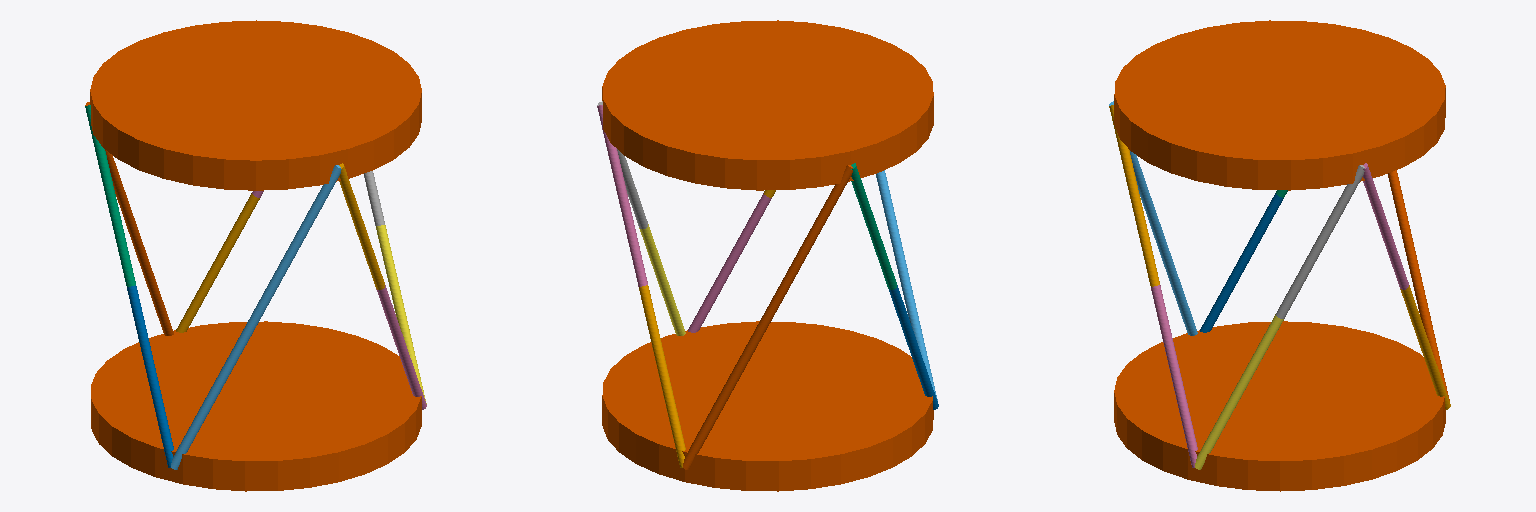
robot.urdf — Stewart:
<?xml version="1.0"?>
<!-- created with Phobos 0.7 -->
  <robot name="Stewart">

    <link name="ITF_12">
    </link>

    <link name="ITF_22">
    </link>

    <link name="ITF_23">
    </link>

    <link name="ITF_31">
    </link>

    <link name="ITF_33">
    </link>

    <link name="P_11">
      <inertial>
        <origin xyz="0 0 0.28" rpy="0 0 0"/>
        <mass value="0.5"/>
        <inertia ixx="0.03413" ixy="-0.03313" ixz="0" iyy="0.03413" iyz="0" izz="0.002"/>
      </inertial>
      <visual name="Visual_11">
        <origin xyz="0 0 0.28" rpy="0 0 0"/>
        <geometry>
          <cylinder radius="0.015" length="0.56"/>
        </geometry>
      </visual>
      <visual name="Visual_Top">
        <origin xyz="0.22334 -0.43301 0.44629" rpy="0.24482 0.39748 0.57314"/>
        <geometry>
          <cylinder radius="0.5" length="0.1"/>
        </geometry>
      </visual>
      <collision name="Visual_11">
        <origin xyz="0 0 0.28" rpy="0 0 0"/>
        <geometry>
          <box size="0.03 0.03 0.56"/>
        </geometry>
      </collision>
      <collision name="Visual_Top">
        <origin xyz="0.22334 -0.43301 0.44629" rpy="0.24482 0.39748 0.57314"/>
        <geometry>
          <cylinder radius="0.5" length="0.1"/>
        </geometry>
      </collision>
    </link>

    <link name="P_22">
      <inertial>
        <origin xyz="0 0 0.28" rpy="0 0 0"/>
        <mass value="0.5"/>
        <inertia ixx="0.00866" ixy="-0.05861" ixz="0" iyy="0.00866" iyz="0" izz="0.002"/>
      </inertial>
      <visual name="Visual_11.005">
        <origin xyz="0 0 0.28" rpy="0 0 0"/>
        <geometry>
          <cylinder radius="0.015" length="0.56"/>
        </geometry>
      </visual>
      <collision name="Visual_11.005">
        <origin xyz="0 0 0.28" rpy="0 0 0"/>
        <geometry>
          <box size="0.03 0.03 0.56"/>
        </geometry>
      </collision>
    </link>

    <link name="P_33">
      <inertial>
        <origin xyz="0 0 0.28" rpy="0 0 0"/>
        <mass value="0.5"/>
        <inertia ixx="0.03413" ixy="-0.03313" ixz="0" iyy="0.03413" iyz="0" izz="0.002"/>
      </inertial>
      <visual name="Visual_11.003">
        <origin xyz="0 0 0.28" rpy="0 0 0"/>
        <geometry>
          <cylinder radius="0.015" length="0.56"/>
        </geometry>
      </visual>
      <collision name="Visual_11.003">
        <origin xyz="0 0 0.28" rpy="0 0 0"/>
        <geometry>
          <box size="0.03 0.03 0.56"/>
        </geometry>
      </collision>
    </link>

    <link name="P_44">
      <inertial>
        <origin xyz="0 0 0.28" rpy="0 0 0"/>
        <mass value="0.5"/>
        <inertia ixx="0.03413" ixy="-0.03313" ixz="0" iyy="0.03413" iyz="0" izz="0.002"/>
      </inertial>
      <visual name="Visual_11.002">
        <origin xyz="0 0 0.28" rpy="0 0 0"/>
        <geometry>
          <cylinder radius="0.015" length="0.56"/>
        </geometry>
      </visual>
      <collision name="Visual_11.002">
        <origin xyz="0 0 0.28" rpy="0 0 0"/>
        <geometry>
          <box size="0.03 0.03 0.56"/>
        </geometry>
      </collision>
    </link>

    <link name="P_55">
      <inertial>
        <origin xyz="0 0 0.28" rpy="0 0 0"/>
        <mass value="0.5"/>
        <inertia ixx="0.00866" ixy="-0.05861" ixz="0" iyy="0.00866" iyz="0" izz="0.002"/>
      </inertial>
      <visual name="Visual_11.001">
        <origin xyz="0 0 0.28" rpy="0 0 0"/>
        <geometry>
          <cylinder radius="0.015" length="0.56"/>
        </geometry>
      </visual>
      <collision name="Visual_11.001">
        <origin xyz="0 0 0.28" rpy="0 0 0"/>
        <geometry>
          <box size="0.03 0.03 0.56"/>
        </geometry>
      </collision>
    </link>

    <link name="P_66">
      <inertial>
        <origin xyz="0 0 0.28" rpy="0 0 0"/>
        <mass value="0.5"/>
        <inertia ixx="0.03413" ixy="-0.03313" ixz="0" iyy="0.03413" iyz="0" izz="0.002"/>
      </inertial>
      <visual name="Visual_11.004">
        <origin xyz="0 0 0.28" rpy="0 0 0"/>
        <geometry>
          <cylinder radius="0.015" length="0.56"/>
        </geometry>
      </visual>
      <collision name="Visual_11.004">
        <origin xyz="0 0 0.28" rpy="0 0 0"/>
        <geometry>
          <box size="0.03 0.03 0.56"/>
        </geometry>
      </collision>
    </link>

    <link name="R_11">
    </link>

    <link name="R_12">
    </link>

    <link name="R_13">
      <inertial>
        <origin xyz="-0.28 0 0" rpy="0 0 0"/>
        <mass value="0.5"/>
        <inertia ixx="0.01742" ixy="0" ixz="0" iyy="0.01409" iyz="0" izz="0.002"/>
      </inertial>
      <visual name="Visual_10">
        <origin xyz="-0.28 0 0" rpy="0 -1.5708 0"/>
        <geometry>
          <cylinder radius="0.015" length="0.56"/>
        </geometry>
      </visual>
      <collision name="Visual_10">
        <origin xyz="-0.28 0 0" rpy="0 -1.5708 0"/>
        <geometry>
          <box size="0.03 0.03 0.56"/>
        </geometry>
      </collision>
    </link>

    <link name="R_21">
    </link>

    <link name="R_22">
    </link>

    <link name="R_23">
      <inertial>
        <origin xyz="-0.28 0 0" rpy="0 0 0"/>
        <mass value="0.5"/>
        <inertia ixx="0.01742" ixy="0" ixz="0" iyy="0.01409" iyz="0" izz="0.002"/>
      </inertial>
      <visual name="Visual_10.005">
        <origin xyz="-0.28 0 0" rpy="0 -1.5708 0"/>
        <geometry>
          <cylinder radius="0.015" length="0.56"/>
        </geometry>
      </visual>
      <collision name="Visual_10.005">
        <origin xyz="-0.28 0 0" rpy="0 -1.5708 0"/>
        <geometry>
          <box size="0.03 0.03 0.56"/>
        </geometry>
      </collision>
    </link>

    <link name="R_31">
    </link>

    <link name="R_32">
    </link>

    <link name="R_33">
      <inertial>
        <origin xyz="-0.28 0 0" rpy="0 0 0"/>
        <mass value="0.5"/>
        <inertia ixx="0.01742" ixy="0" ixz="0" iyy="0.01409" iyz="0" izz="0.002"/>
      </inertial>
      <visual name="Visual_10.003">
        <origin xyz="-0.28 0 0" rpy="0 -1.5708 0"/>
        <geometry>
          <cylinder radius="0.015" length="0.56"/>
        </geometry>
      </visual>
      <collision name="Visual_10.003">
        <origin xyz="-0.28 0 0" rpy="0 -1.5708 0"/>
        <geometry>
          <box size="0.03 0.03 0.56"/>
        </geometry>
      </collision>
    </link>

    <link name="R_41">
    </link>

    <link name="R_42">
    </link>

    <link name="R_43">
      <inertial>
        <origin xyz="-0.28 0 0" rpy="0 0 0"/>
        <mass value="0.5"/>
        <inertia ixx="0.01742" ixy="0" ixz="0" iyy="0.01409" iyz="0" izz="0.002"/>
      </inertial>
      <visual name="Visual_10.002">
        <origin xyz="-0.28 0 0" rpy="0 -1.5708 0"/>
        <geometry>
          <cylinder radius="0.015" length="0.56"/>
        </geometry>
      </visual>
      <collision name="Visual_10.002">
        <origin xyz="-0.28 0 0" rpy="0 -1.5708 0"/>
        <geometry>
          <box size="0.03 0.03 0.56"/>
        </geometry>
      </collision>
    </link>

    <link name="R_51">
    </link>

    <link name="R_52">
    </link>

    <link name="R_53">
      <inertial>
        <origin xyz="-0.28 0 0" rpy="0 0 0"/>
        <mass value="0.5"/>
        <inertia ixx="0.01742" ixy="0" ixz="0" iyy="0.01409" iyz="0" izz="0.002"/>
      </inertial>
      <visual name="Visual_10.001">
        <origin xyz="-0.28 0 0" rpy="0 -1.5708 0"/>
        <geometry>
          <cylinder radius="0.015" length="0.56"/>
        </geometry>
      </visual>
      <collision name="Visual_10.001">
        <origin xyz="-0.28 0 0" rpy="0 -1.5708 0"/>
        <geometry>
          <box size="0.03 0.03 0.56"/>
        </geometry>
      </collision>
    </link>

    <link name="R_61">
    </link>

    <link name="R_62">
    </link>

    <link name="R_63">
      <inertial>
        <origin xyz="-0.28 0 0" rpy="0 0 0"/>
        <mass value="0.5"/>
        <inertia ixx="0.01742" ixy="0" ixz="0" iyy="0.01409" iyz="0" izz="0.002"/>
      </inertial>
      <visual name="Visual_10.004">
        <origin xyz="-0.28 0 0" rpy="0 -1.5708 0"/>
        <geometry>
          <cylinder radius="0.015" length="0.56"/>
        </geometry>
      </visual>
      <collision name="Visual_10.004">
        <origin xyz="-0.28 0 0" rpy="0 -1.5708 0"/>
        <geometry>
          <box size="0.03 0.03 0.56"/>
        </geometry>
      </collision>
    </link>

    <link name="root">
      <inertial>
        <origin xyz="0 0 0" rpy="0 0 0"/>
        <mass value="2.0"/>
        <inertia ixx="0.12667" ixy="0" ixz="0" iyy="0.12667" iyz="0" izz="0.25"/>
      </inertial>
      <visual name="Visual_Base.001">
        <origin xyz="0 0 0" rpy="0 0 0"/>
        <geometry>
          <cylinder radius="0.5" length="0.1"/>
        </geometry>
      </visual>
      <collision name="Visual_Base.001">
        <origin xyz="0 0 0" rpy="0 0 0"/>
        <geometry>
          <cylinder radius="0.5" length="0.1"/>
        </geometry>
      </collision>
    </link>

    <link name="top_11">
    </link>

    <link name="top_12">
    </link>

    <link name="top_13">
    </link>

    <joint name="ITF_12" type="floating">
      <origin xyz="-0.0003 0 0.55803" rpy="-0.24482 -0.39748 -2.56845"/>
      <parent link="P_22"/>
      <child link="ITF_12"/>
    </joint>

    <joint name="ITF_22" type="floating">
      <origin xyz="-0.00029 0.00088 0.55803" rpy="0.46338 0.00078 1.56924"/>
      <parent link="P_33"/>
      <child link="ITF_22"/>
    </joint>

    <joint name="ITF_23" type="floating">
      <origin xyz="-0.00029 0 0.55803" rpy="-0.24482 0.39748 -0.57314"/>
      <parent link="P_44"/>
      <child link="ITF_23"/>
    </joint>

    <joint name="ITF_31" type="floating">
      <origin xyz="-0.00029 0.00087 0.55803" rpy="0.46338 0.00078 1.56924"/>
      <parent link="P_66"/>
      <child link="ITF_31"/>
    </joint>

    <joint name="ITF_33" type="floating">
      <origin xyz="-0.00029 0 0.55803" rpy="-0.24482 -0.39748 -2.56845"/>
      <parent link="P_55"/>
      <child link="ITF_33"/>
    </joint>

    <joint name="P_11" type="prismatic">
      <origin xyz="-0.56 0 0" rpy="0 -1.5708 0"/>
      <parent link="R_13"/>
      <child link="P_11"/>
      <axis xyz="0 0 1.0"/>
      <limit lower="-0.2" upper="0.2" effort="100.0" velocity="1.0"/>
    </joint>

    <joint name="P_22" type="prismatic">
      <origin xyz="-0.56 0 0" rpy="0 -1.5708 0"/>
      <parent link="R_23"/>
      <child link="P_22"/>
      <axis xyz="0 0 1.0"/>
      <limit lower="-0.2" upper="0.2" effort="100.0" velocity="1.0"/>
    </joint>

    <joint name="P_33" type="prismatic">
      <origin xyz="-0.56 0 0" rpy="0 -1.5708 0"/>
      <parent link="R_33"/>
      <child link="P_33"/>
      <axis xyz="0 0 1.0"/>
      <limit lower="-0.2" upper="0.2" effort="100.0" velocity="1.0"/>
    </joint>

    <joint name="P_44" type="prismatic">
      <origin xyz="-0.56 0 0" rpy="0 -1.5708 0"/>
      <parent link="R_43"/>
      <child link="P_44"/>
      <axis xyz="0 0 1.0"/>
      <limit lower="-0.2" upper="0.2" effort="100.0" velocity="1.0"/>
    </joint>

    <joint name="P_55" type="prismatic">
      <origin xyz="-0.56 0 0" rpy="0 -1.5708 0"/>
      <parent link="R_53"/>
      <child link="P_55"/>
      <axis xyz="0 0 1.0"/>
      <limit lower="-0.2" upper="0.2" effort="100.0" velocity="1.0"/>
    </joint>

    <joint name="P_66" type="prismatic">
      <origin xyz="-0.56 0 0" rpy="0 -1.5708 0"/>
      <parent link="R_63"/>
      <child link="P_66"/>
      <axis xyz="0 0 1.0"/>
      <limit lower="-0.2" upper="0.2" effort="100.0" velocity="1.0"/>
    </joint>

    <joint name="R_11" type="revolute">
      <origin xyz="0 0.5 0" rpy="0 -0.46338 0.5236"/>
      <parent link="root"/>
      <child link="R_11"/>
      <axis xyz="0 0 1.0"/>
      <limit lower="-0.2" upper="0.2" effort="0" velocity="1000.0"/>
    </joint>

    <joint name="R_12" type="revolute">
      <origin xyz="0 0 0" rpy="-1.5708 0 0"/>
      <parent link="R_11"/>
      <child link="R_12"/>
      <axis xyz="0 0 1.0"/>
      <limit lower="-0.2" upper="0.2" effort="0" velocity="1000.0"/>
    </joint>

    <joint name="R_13" type="revolute">
      <origin xyz="0 0 0" rpy="1.5708 0 1.5708"/>
      <parent link="R_12"/>
      <child link="R_13"/>
      <axis xyz="0 0 1.0"/>
      <limit lower="-0.2" upper="0.2" effort="0" velocity="1000.0"/>
    </joint>

    <joint name="R_21" type="revolute">
      <origin xyz="0 0.5 0" rpy="0 -0.46338 2.61799"/>
      <parent link="root"/>
      <child link="R_21"/>
      <axis xyz="0 0 1.0"/>
      <limit lower="-0.2" upper="0.2" effort="0" velocity="1000.0"/>
    </joint>

    <joint name="R_22" type="revolute">
      <origin xyz="0 0 0" rpy="-1.5708 0 0"/>
      <parent link="R_21"/>
      <child link="R_22"/>
      <axis xyz="0 0 1.0"/>
      <limit lower="-0.2" upper="0.2" effort="0" velocity="1000.0"/>
    </joint>

    <joint name="R_23" type="revolute">
      <origin xyz="0 0 0" rpy="1.5708 0 1.5708"/>
      <parent link="R_22"/>
      <child link="R_23"/>
      <axis xyz="0 0 1.0"/>
      <limit lower="-0.2" upper="0.2" effort="0" velocity="1000.0"/>
    </joint>

    <joint name="R_31" type="revolute">
      <origin xyz="0.43301 -0.25 0" rpy="0 -0.46338 -1.56905"/>
      <parent link="root"/>
      <child link="R_31"/>
      <axis xyz="0 0 1.0"/>
      <limit lower="-0.2" upper="0.2" effort="0" velocity="1000.0"/>
    </joint>

    <joint name="R_32" type="revolute">
      <origin xyz="0 0 0" rpy="-1.5708 0 0"/>
      <parent link="R_31"/>
      <child link="R_32"/>
      <axis xyz="0 0 1.0"/>
      <limit lower="-0.2" upper="0.2" effort="0" velocity="1000.0"/>
    </joint>

    <joint name="R_33" type="revolute">
      <origin xyz="0 0 0" rpy="1.5708 0 1.5708"/>
      <parent link="R_32"/>
      <child link="R_33"/>
      <axis xyz="0 0 1.0"/>
      <limit lower="-0.2" upper="0.2" effort="0" velocity="1000.0"/>
    </joint>

    <joint name="R_41" type="revolute">
      <origin xyz="0.43301 -0.25 0" rpy="0 -0.46338 0.5236"/>
      <parent link="root"/>
      <child link="R_41"/>
      <axis xyz="0 0 1.0"/>
      <limit lower="-0.2" upper="0.2" effort="0" velocity="1000.0"/>
    </joint>

    <joint name="R_42" type="revolute">
      <origin xyz="0 0 0" rpy="-1.5708 0 0"/>
      <parent link="R_41"/>
      <child link="R_42"/>
      <axis xyz="0 0 1.0"/>
      <limit lower="-0.2" upper="0.2" effort="0" velocity="1000.0"/>
    </joint>

    <joint name="R_43" type="revolute">
      <origin xyz="0 0 0" rpy="1.5708 0 1.5708"/>
      <parent link="R_42"/>
      <child link="R_43"/>
      <axis xyz="0 0 1.0"/>
      <limit lower="-0.2" upper="0.2" effort="0" velocity="1000.0"/>
    </joint>

    <joint name="R_51" type="revolute">
      <origin xyz="-0.43301 -0.25 0" rpy="0 -0.46338 2.61799"/>
      <parent link="root"/>
      <child link="R_51"/>
      <axis xyz="0 0 1.0"/>
      <limit lower="-0.2" upper="0.2" effort="0" velocity="1000.0"/>
    </joint>

    <joint name="R_52" type="revolute">
      <origin xyz="0 0 0" rpy="-1.5708 0 0"/>
      <parent link="R_51"/>
      <child link="R_52"/>
      <axis xyz="0 0 1.0"/>
      <limit lower="-0.2" upper="0.2" effort="0" velocity="1000.0"/>
    </joint>

    <joint name="R_53" type="revolute">
      <origin xyz="0 0 0" rpy="1.5708 0 1.5708"/>
      <parent link="R_52"/>
      <child link="R_53"/>
      <axis xyz="0 0 1.0"/>
      <limit lower="-0.2" upper="0.2" effort="0" velocity="1000.0"/>
    </joint>

    <joint name="R_61" type="revolute">
      <origin xyz="-0.43301 -0.25 0" rpy="0 -0.46338 -1.56905"/>
      <parent link="root"/>
      <child link="R_61"/>
      <axis xyz="0 0 1.0"/>
      <limit lower="-0.2" upper="0.2" effort="0" velocity="1000.0"/>
    </joint>

    <joint name="R_62" type="revolute">
      <origin xyz="0 0 0" rpy="-1.5708 0 0"/>
      <parent link="R_61"/>
      <child link="R_62"/>
      <axis xyz="0 0 1.0"/>
      <limit lower="-0.2" upper="0.2" effort="0" velocity="1000.0"/>
    </joint>

    <joint name="R_63" type="revolute">
      <origin xyz="0 0 0" rpy="1.5708 0 1.5708"/>
      <parent link="R_62"/>
      <child link="R_63"/>
      <axis xyz="0 0 1.0"/>
      <limit lower="-0.2" upper="0.2" effort="0" velocity="1000.0"/>
    </joint>

    <joint name="top_11" type="floating">
      <origin xyz="-0.00029 0 0.55803" rpy="0.24482 0.39748 0.57314"/>
      <parent link="P_11"/>
      <child link="top_11"/>
    </joint>

    <joint name="top_12" type="floating">
      <origin xyz="0.43301 -0.75 0" rpy="0 0 0"/>
      <parent link="top_11"/>
      <child link="top_12"/>
    </joint>

    <joint name="top_13" type="floating">
      <origin xyz="-0.43301 -0.75 0" rpy="0 0 0"/>
      <parent link="top_11"/>
      <child link="top_13"/>
    </joint>

  </robot>

--- Render facts (derived) ---
3 views of the same robot in one strip: view 1: azimuth 30°, elevation 25°; view 2: azimuth 150°, elevation 25°; view 3: azimuth 270°, elevation 25° (orthographic).
Robot: Stewart — 33 links, 32 joints (18 revolute, 6 prismatic, 8 floating); root link root; default pose: every joint at zero.
Visible links, largest first — view 1: P_11, root, R_63, R_53, P_55, P_66, R_23, R_33, P_44, R_43, R_13, P_33; view 2: P_11, root, R_23, R_13, P_22, R_43, R_53, P_66, R_63, R_33, P_33, P_55; view 3: P_11, root, R_43, R_33, P_33, R_63, P_44, R_13, P_22, R_23, R_53, P_55.
Link boxes in pixels (x1=…): P_11: x1=85, y1=20, x2=421, y2=228; root: x1=91, y1=321, x2=421, y2=491; R_63: x1=127, y1=285, x2=173, y2=467; R_53: x1=171, y1=315, x2=259, y2=469; P_55: x1=252, y1=165, x2=341, y2=318; P_66: x1=85, y1=105, x2=135, y2=286; R_23: x1=176, y1=193, x2=259, y2=332; R_33: x1=376, y1=225, x2=426, y2=403; P_44: x1=339, y1=163, x2=384, y2=289; R_43: x1=376, y1=285, x2=426, y2=409; R_13: x1=127, y1=224, x2=173, y2=335; P_33: x1=364, y1=171, x2=384, y2=225; P_11: x1=602, y1=20, x2=933, y2=318; root: x1=602, y1=321, x2=933, y2=491; R_23: x1=639, y1=285, x2=685, y2=467; R_13: x1=683, y1=315, x2=771, y2=469; P_22: x1=597, y1=105, x2=647, y2=286; R_43: x1=688, y1=193, x2=771, y2=332; R_53: x1=888, y1=224, x2=937, y2=400; P_66: x1=851, y1=163, x2=896, y2=289; R_63: x1=889, y1=285, x2=938, y2=409; R_33: x1=639, y1=224, x2=685, y2=335; P_33: x1=597, y1=101, x2=647, y2=228; P_55: x1=876, y1=170, x2=896, y2=225; P_11: x1=1114, y1=20, x2=1445, y2=225; root: x1=1114, y1=321, x2=1445, y2=491; R_43: x1=1151, y1=285, x2=1197, y2=467; R_33: x1=1195, y1=314, x2=1283, y2=469; P_33: x1=1276, y1=165, x2=1364, y2=318; R_63: x1=1200, y1=193, x2=1283, y2=332; P_44: x1=1109, y1=105, x2=1159, y2=286; R_13: x1=1400, y1=224, x2=1449, y2=400; P_22: x1=1363, y1=163, x2=1408, y2=289; R_23: x1=1400, y1=285, x2=1450, y2=409; R_53: x1=1151, y1=224, x2=1197, y2=335; P_55: x1=1109, y1=101, x2=1159, y2=228.
Bounding box of the posed robot: 1 × 1.03 × 1.1 m (x, y, z).
Geometry: primitives only (box / cylinder / sphere), no mesh files.
